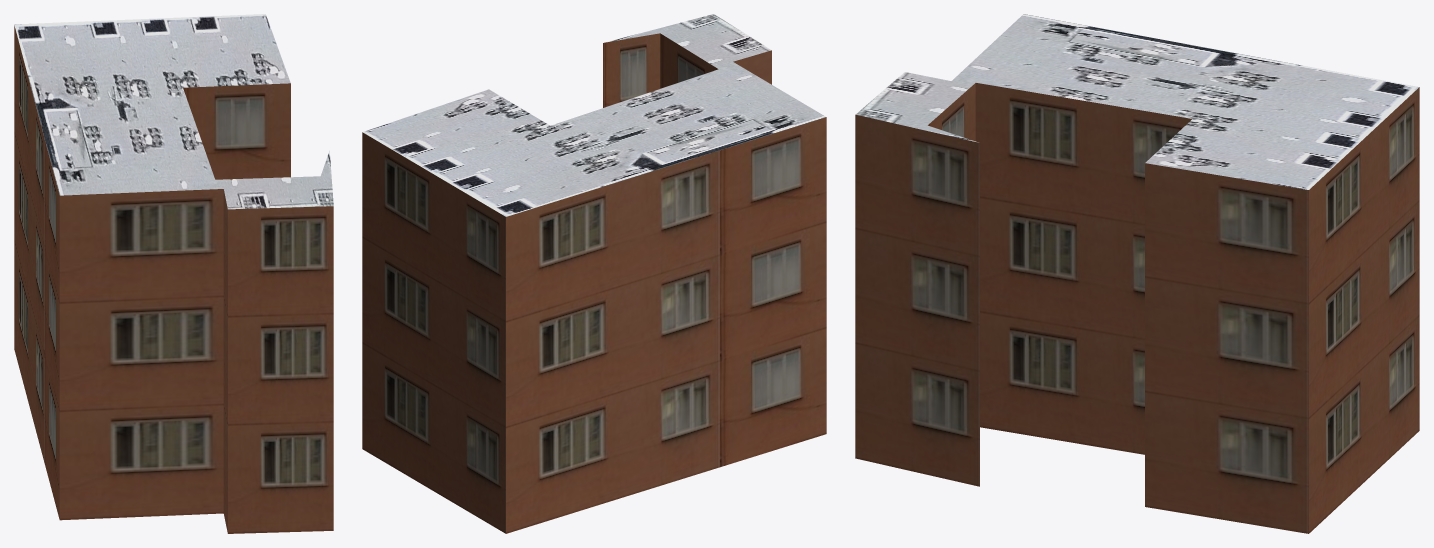
File: ResTex__2596.fbx
The picture shows the model from 3 angles, left to right: view 1: azimuth 30°, elevation 25°; view 2: azimuth 150°, elevation 25°; view 3: azimuth 270°, elevation 25°; orthographic projection. The views are drawn at different scales.
Parts seen in each view (by area): view 1: CityEngineMaterial_20_m, CityEngineMaterial_4_m; view 2: CityEngineMaterial_20_m, CityEngineMaterial_4_m; view 3: CityEngineMaterial_20_m, CityEngineMaterial_4_m.
Boxes of the visible parts, x1,y1,x2,y2 form: CityEngineMaterial_20_m: (14, 25, 333, 533); CityEngineMaterial_4_m: (14, 14, 333, 209); CityEngineMaterial_20_m: (362, 33, 826, 533); CityEngineMaterial_4_m: (362, 14, 825, 216); CityEngineMaterial_20_m: (855, 83, 1419, 533); CityEngineMaterial_4_m: (856, 14, 1418, 189).
Bounding box in the file's own units: 9.89 × 9 × 13.38.
2 materials, 2 textured.
